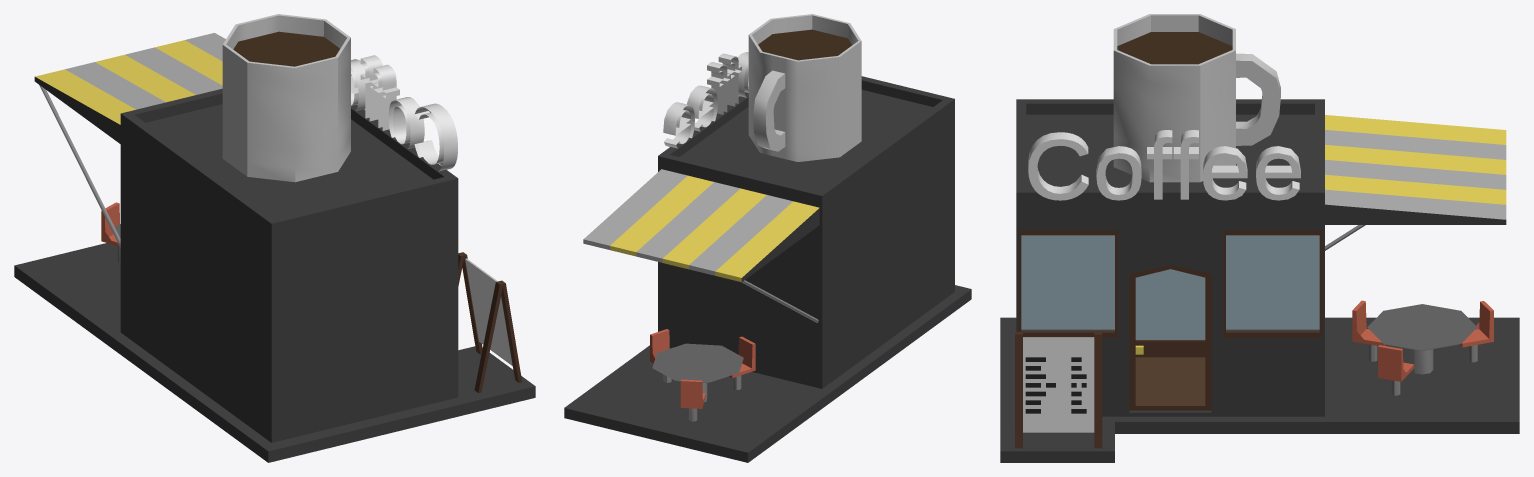
File: coffee_shop.glb
3 views of the same model, side by side, from view 1: azimuth 30°, elevation 25°; view 2: azimuth 150°, elevation 25°; view 3: azimuth 270°, elevation 25° (orthographic). The views are drawn at different scales.
Parts seen in each view (by area): view 1: coffe-mm_1; view 2: coffe-mm_1; view 3: coffe-mm_1.
Boxes of the visible parts, <box> form: coffe-mm_1: <box>14,14,535,462</box>; coffe-mm_1: <box>564,14,971,462</box>; coffe-mm_1: <box>1000,14,1519,462</box>.
Bounding box in the file's own units: 3.8 × 4.54 × 6.26.
Materials: 1 (1 with a texture image).
